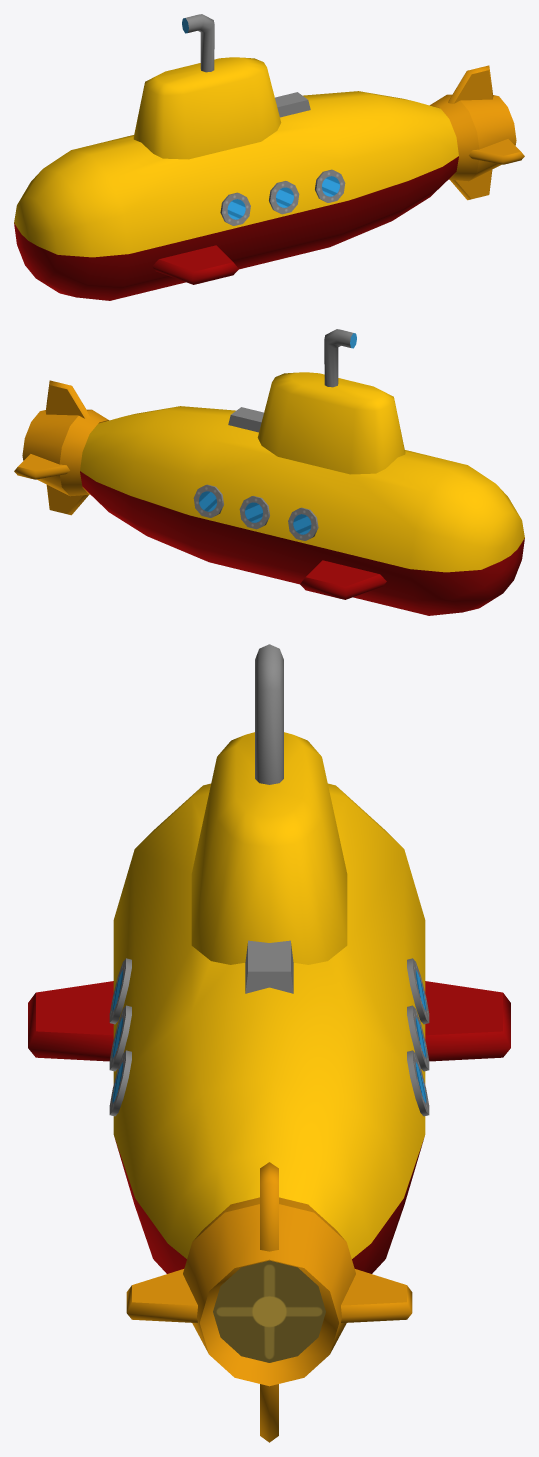
File: FSW_Boat_04_Sub_B.fbx
3 views of the same model, one above another, from view 1: azimuth 30°, elevation 25°; view 2: azimuth 150°, elevation 25°; view 3: azimuth 270°, elevation 25° (orthographic). The views are drawn at different scales.
Visible parts, largest first — view 1: FSW_Boat_04_Sub_B; view 2: FSW_Boat_04_Sub_B; view 3: FSW_Boat_04_Sub_B.
Boxes of the visible parts, left/top/right/bottom form: FSW_Boat_04_Sub_B: left=14, top=14, right=524, bottom=300; FSW_Boat_04_Sub_B: left=14, top=329, right=524, bottom=615; FSW_Boat_04_Sub_B: left=28, top=644, right=510, bottom=1442.
Bounding box in the file's own units: 270 × 140 × 120.
